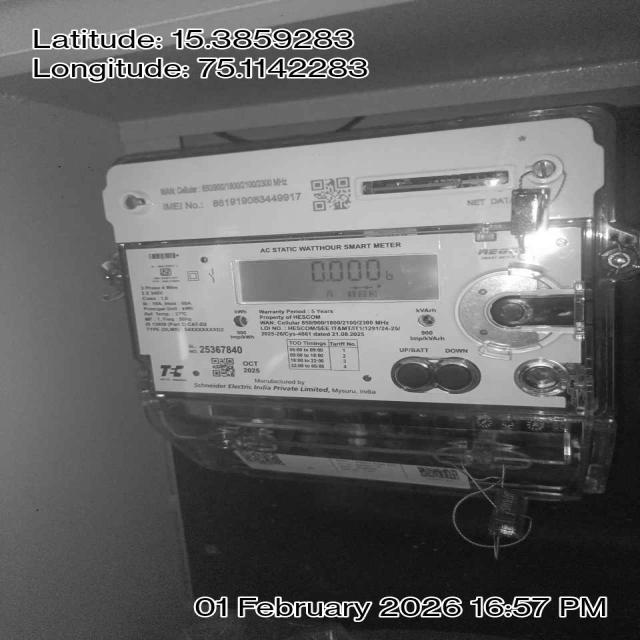meter: (102, 123, 591, 406)
